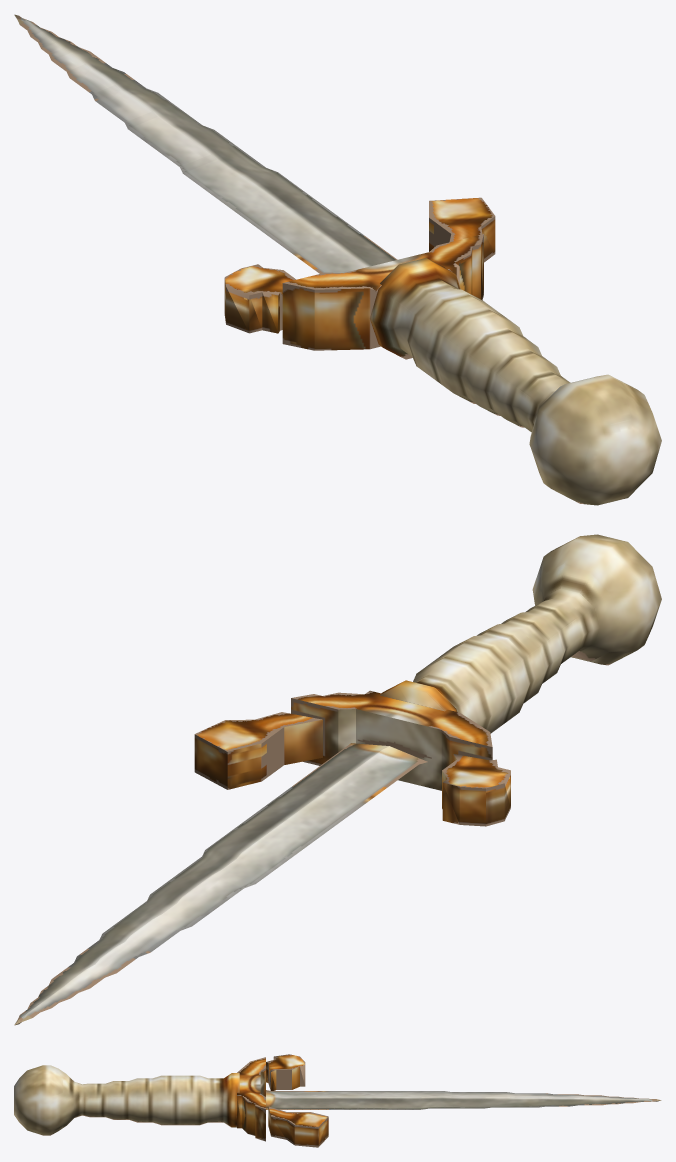
The model's file is item_mm9_10029.glb.
3 views of the same model, one above another, from view 1: azimuth 30°, elevation 25°; view 2: azimuth 150°, elevation 25°; view 3: azimuth 270°, elevation 25° (orthographic). The views are drawn at different scales.
Visible parts, largest first — view 1: d10029; view 2: d10029; view 3: d10029.
Part boxes in pixels (x1,y1,x2,y2): d10029: [14, 14, 661, 505]; d10029: [14, 534, 661, 1025]; d10029: [14, 1054, 661, 1147].
Bounding box in the file's own units: 29.58 × 11.51 × 111.
Materials: 1 (1 with a texture image).
